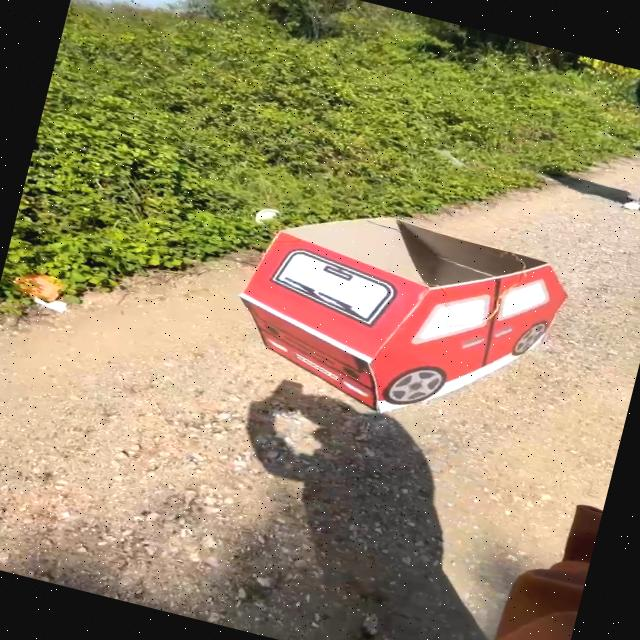red_car: (195, 171, 600, 462)
